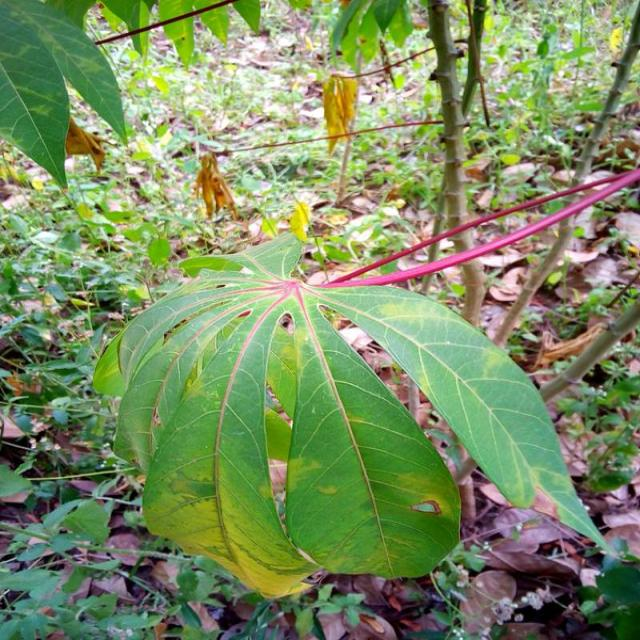cassava leaf: (92, 230, 613, 600)
